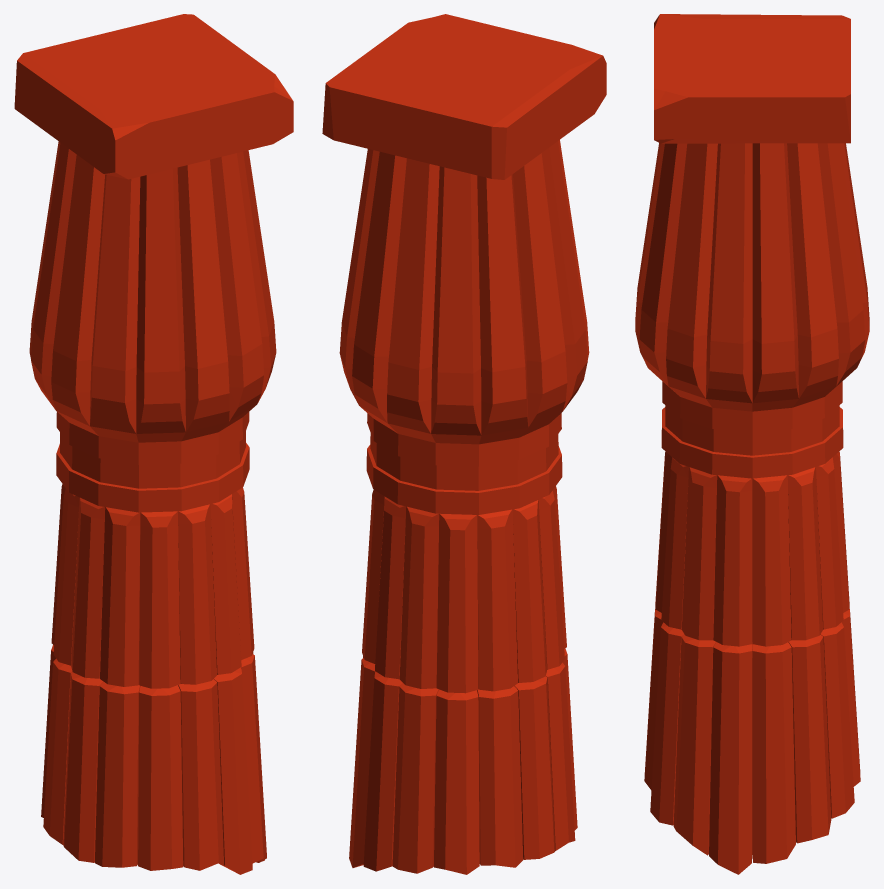
The model's file is CGM_ENV_GRD_broken_pillar2.fbx.
The picture shows the model from 3 angles, left to right: view 1: azimuth 30°, elevation 25°; view 2: azimuth 150°, elevation 25°; view 3: azimuth 270°, elevation 25°; orthographic projection. The views are drawn at different scales.
Visible parts, largest first — view 1: CGM_ENV_GRD_broken_pillar2; view 2: CGM_ENV_GRD_broken_pillar2; view 3: CGM_ENV_GRD_broken_pillar2.
Part boxes in pixels (x1=…): CGM_ENV_GRD_broken_pillar2: x1=14, y1=14, x2=293, y2=874; CGM_ENV_GRD_broken_pillar2: x1=322, y1=14, x2=606, y2=874; CGM_ENV_GRD_broken_pillar2: x1=635, y1=14, x2=869, y2=874.
Bounding box in the file's own units: 130 × 471 × 129.
